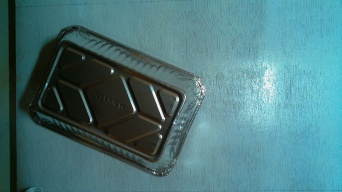f: (27, 21, 205, 181)
